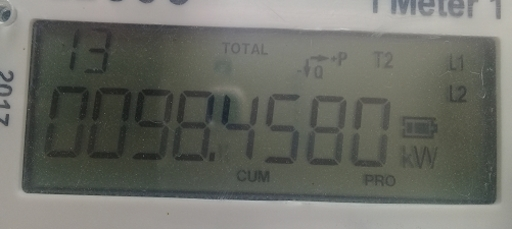0: (84, 75, 132, 170), (43, 84, 93, 175), (341, 88, 393, 170)
4: (212, 77, 268, 168)
5: (128, 79, 168, 172), (262, 77, 307, 159)
8: (168, 75, 214, 165)
9: (298, 86, 357, 179)
d: (207, 154, 232, 175)
